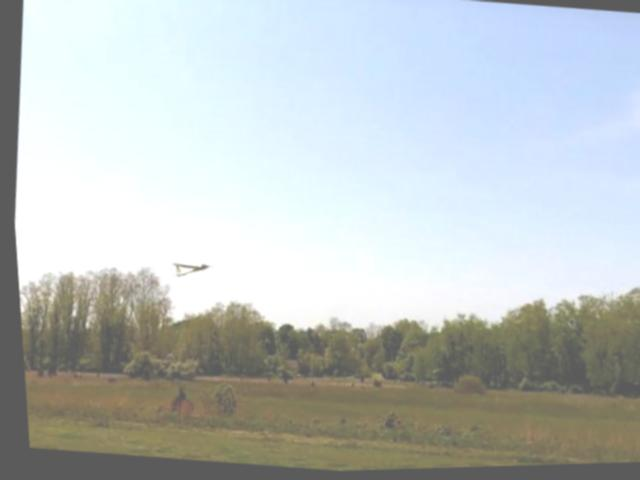iha: (162, 245, 219, 287)
